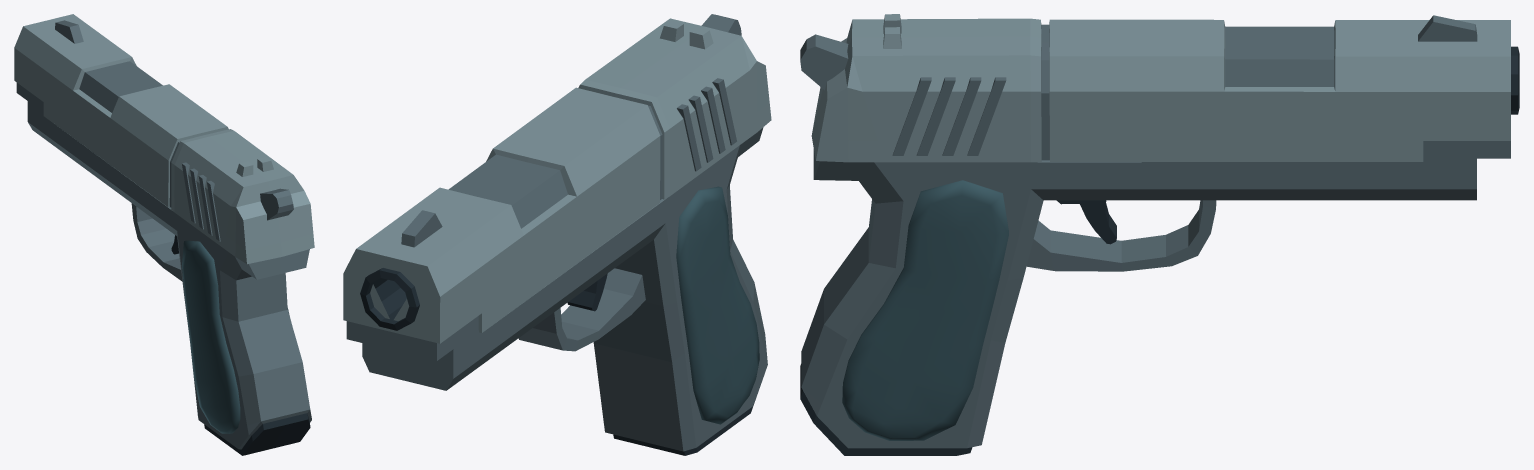
The model's file is fantasma.glb.
The picture shows the model from 3 angles, left to right: view 1: azimuth 30°, elevation 25°; view 2: azimuth 150°, elevation 25°; view 3: azimuth 270°, elevation 25°; orthographic projection. The views are drawn at different scales.
Parts seen in each view (by area): view 1: fantasma; view 2: fantasma; view 3: fantasma.
Boxes of the visible parts, bbox=[...] form: fantasma: bbox=[14, 14, 314, 455]; fantasma: bbox=[343, 14, 771, 455]; fantasma: bbox=[800, 14, 1519, 455].
Size of the model in its own units: 0.1261 by 0.453 by 0.7096.
